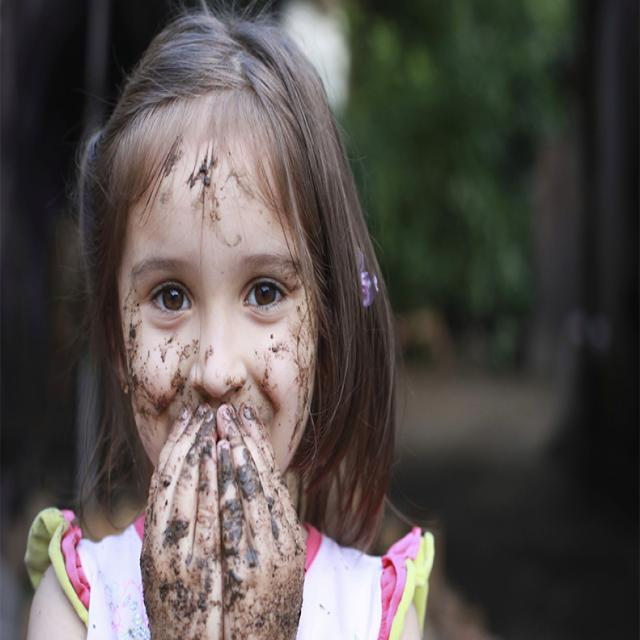child: (28, 8, 435, 640)
